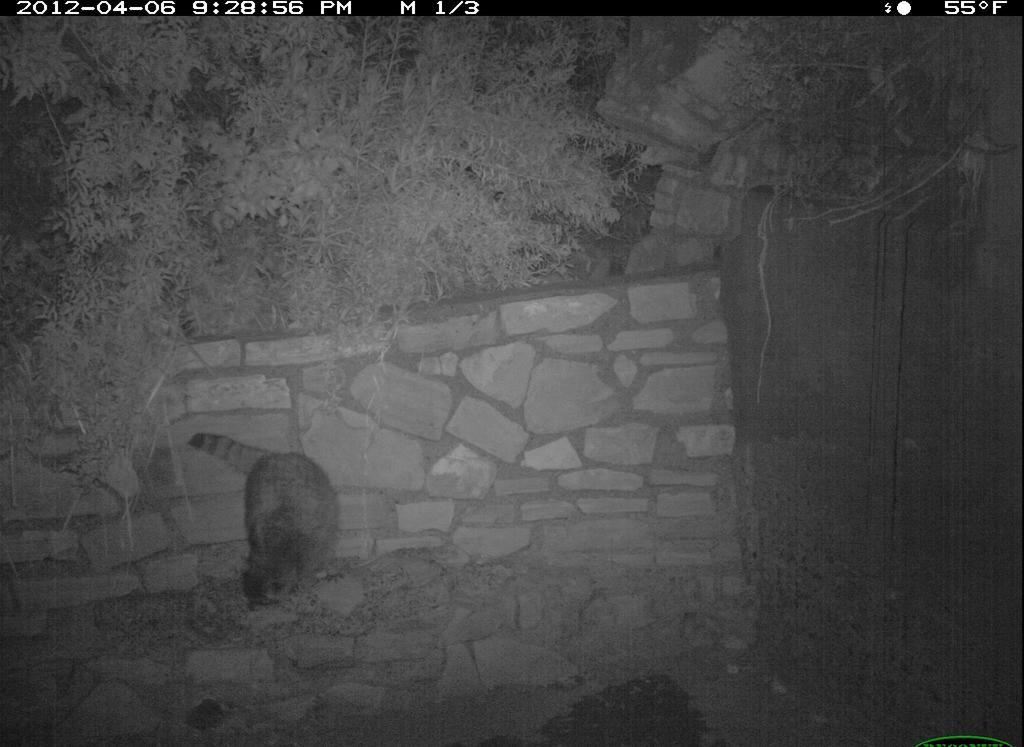raccoon: (140, 401, 370, 633)
